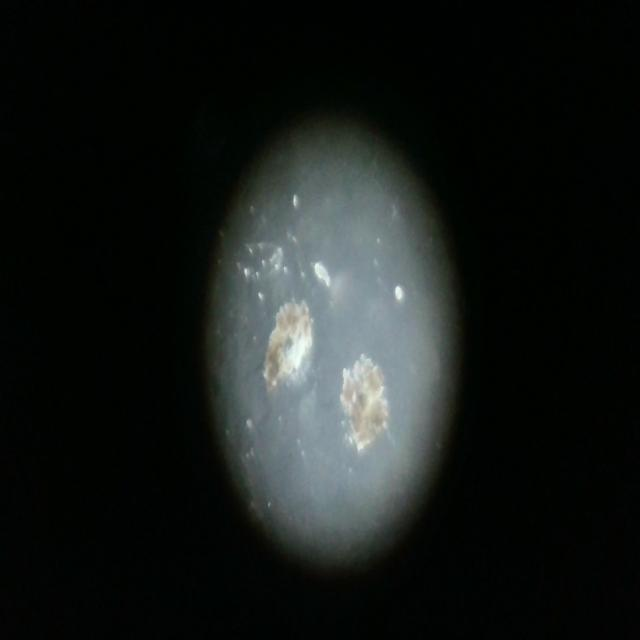alexandrium: (331, 342, 398, 460), (255, 284, 318, 398)
